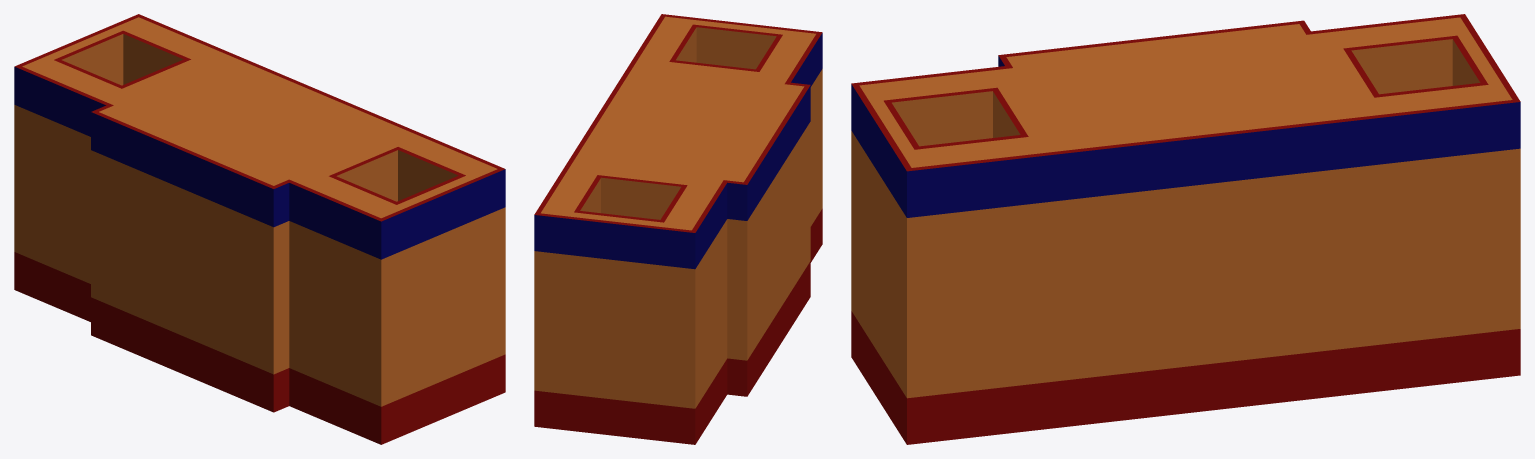
File: SchoolBack 1.fbx
3 views of the same model, side by side, from view 1: azimuth 30°, elevation 25°; view 2: azimuth 150°, elevation 25°; view 3: azimuth 270°, elevation 25° (orthographic). The views are drawn at different scales.
Visible parts, largest first — view 1: SchoolBack; view 2: SchoolBack; view 3: SchoolBack.
Part boxes in pixels (left/top/right/bottom): SchoolBack: left=14, top=14, right=505, bottom=444; SchoolBack: left=534, top=14, right=822, bottom=444; SchoolBack: left=851, top=14, right=1520, bottom=444.
Size of the model in its own units: 87.81 by 71.14 by 158.
